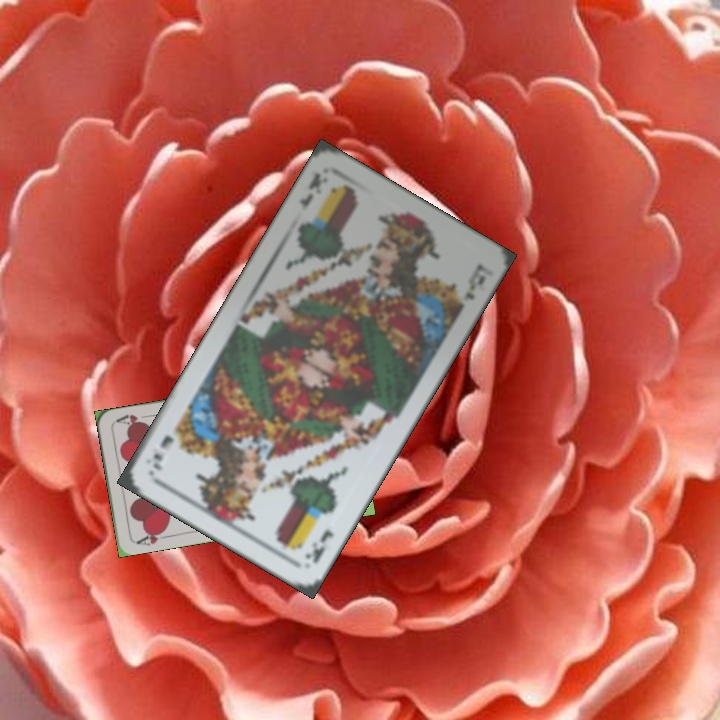EK: (300, 524, 337, 566), (294, 168, 324, 213)
HA: (132, 525, 171, 548)
